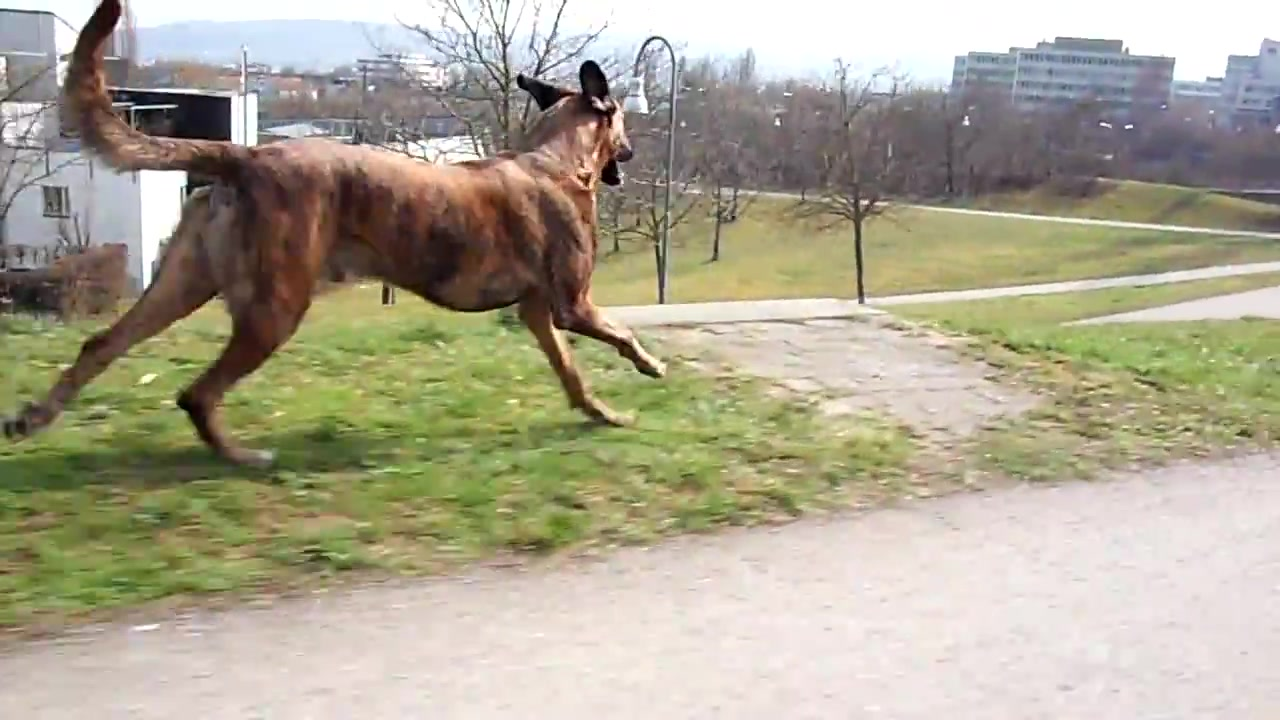dog: (2, 1, 665, 475)
